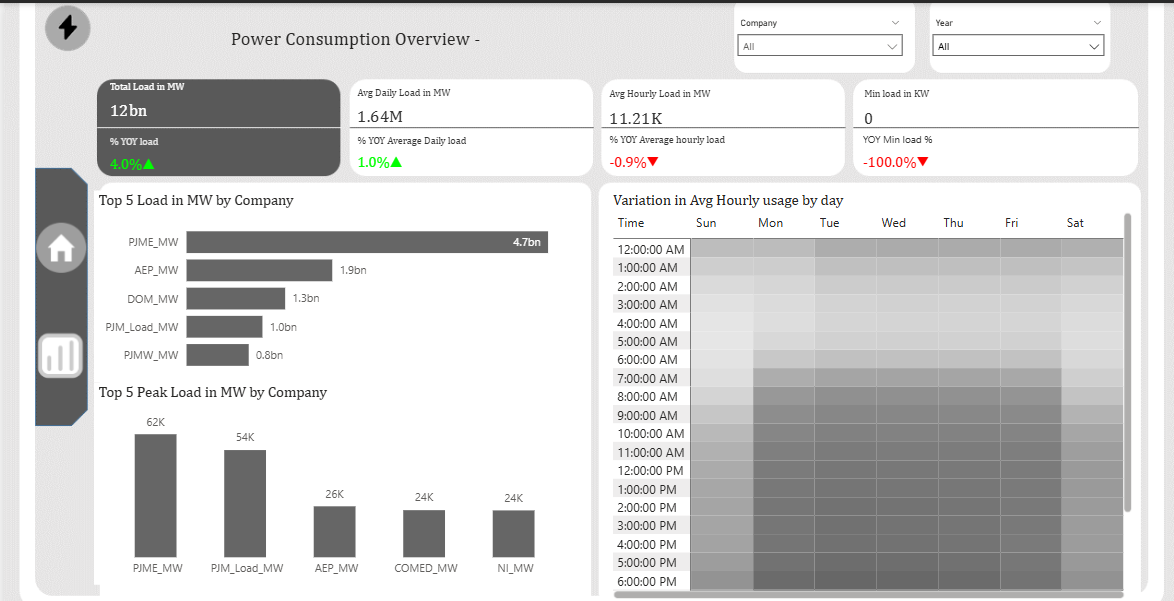

This screenshot's page, from the dashboard's own definition file:
{"tool":"powerbi","page":{"name":"Page 2","canvas":[1280,720],"ordinal":1},"visuals":[{"type":"pivotTable","title":"Variation in Avg Hourly usage by day","fields":{"Rows":["Energy data.Time"],"Values":["Measures Table.Average Hourly Usage"],"Columns":["DateTable.Weekday"]},"box":[655.8,204.1,572.6,447.9],"z":0},{"type":"slicer","fields":{"Values":["Energy data.Company"]},"box":[786.1,11.3,198.4,54.8],"z":1000},{"type":"slicer","fields":{"Values":["DateTable.Year"]},"box":[997.8,11.3,206,73.7],"z":2000},{"type":"card","fields":{"Values":["Measures Table.Report Header 1"]},"box":[0,11.3,761.6,54.8],"z":3000},{"type":"cardVisual","fields":{"Data":["Measures Table.Total Load in MW"]},"box":[98.3,66.1,183.3,68],"z":4000},{"type":"cardVisual","fields":{"Data":["Measures Table.% YOY load"]},"box":[98.3,126.6,164.4,64.3],"z":5000},{"type":"cardVisual","fields":{"Data":["Measures Table.Avg Daily usage"]},"box":[366.6,73.7,206,86.9],"z":6000},{"type":"cardVisual","fields":{"Data":["Measures Table.% YOY Average Daily load"]},"box":[366.6,120.9,206,83.2],"z":7000},{"type":"cardVisual","fields":{"Data":["Measures Table.Average Hourly Usage"]},"box":[638.7,75.6,230.6,86.9],"z":8000},{"type":"cardVisual","fields":{"Data":["Measures Table.% YOY Average load"]},"box":[638.7,111.5,168.2,98.3],"z":9000},{"type":"cardVisual","fields":{"Data":["Measures Table.Min load"]},"box":[916.5,75.6,209.8,85],"z":10000},{"type":"cardVisual","fields":{"Data":["Measures Table.YOY Min load %"]},"box":[914.7,119.1,164.4,85],"z":11000},{"type":"actionButton","box":[30.2,234.3,68,62.4],"z":12000},{"type":"actionButton","box":[30.2,326.9,60.5,111.5],"z":13000},{"type":"barChart","fields":{"Category":["Energy data.Company"],"Y":["Measures Table.Total Load in MW"]},"box":[98.3,204.1,525.4,207.9],"z":14000},{"type":"columnChart","fields":{"Category":["PeakLoadPerCompany.Company"],"Y":["Sum(PeakLoadPerCompany.Peak Load (MW))"]},"box":[98.3,412,525.4,219.2],"z":15000}]}

Visuals, with their boxes on the page's 1280x720 design canvas (x1, y1, x2, y2). These are canvas units, not pixel positions in the 1174x601 screenshot, which may show the page scaled, cropped or inside an application window:
"Variation in Avg Hourly usage by day" pivotTable: (x1=656, y1=204, x2=1228, y2=652)
slicer - Energy data.Company: (x1=786, y1=11, x2=984, y2=66)
slicer - DateTable.Year: (x1=998, y1=11, x2=1204, y2=85)
card - Measures Table.Report Header 1: (x1=0, y1=11, x2=762, y2=66)
cardVisual - Measures Table.Total Load in MW: (x1=98, y1=66, x2=282, y2=134)
cardVisual - Measures Table.% YOY load: (x1=98, y1=127, x2=263, y2=191)
cardVisual - Measures Table.Avg Daily usage: (x1=367, y1=74, x2=573, y2=161)
cardVisual - Measures Table.% YOY Average Daily load: (x1=367, y1=121, x2=573, y2=204)
cardVisual - Measures Table.Average Hourly Usage: (x1=639, y1=76, x2=869, y2=162)
cardVisual - Measures Table.% YOY Average load: (x1=639, y1=112, x2=807, y2=210)
cardVisual - Measures Table.Min load: (x1=916, y1=76, x2=1126, y2=161)
cardVisual - Measures Table.YOY Min load %: (x1=915, y1=119, x2=1079, y2=204)
actionButton: (x1=30, y1=234, x2=98, y2=297)
actionButton: (x1=30, y1=327, x2=91, y2=438)
barChart - Energy data.Company x Measures Table.Total Load in MW: (x1=98, y1=204, x2=624, y2=412)
columnChart - PeakLoadPerCompany.Company x Sum(PeakLoadPerCompany.Peak Load (MW)): (x1=98, y1=412, x2=624, y2=631)
